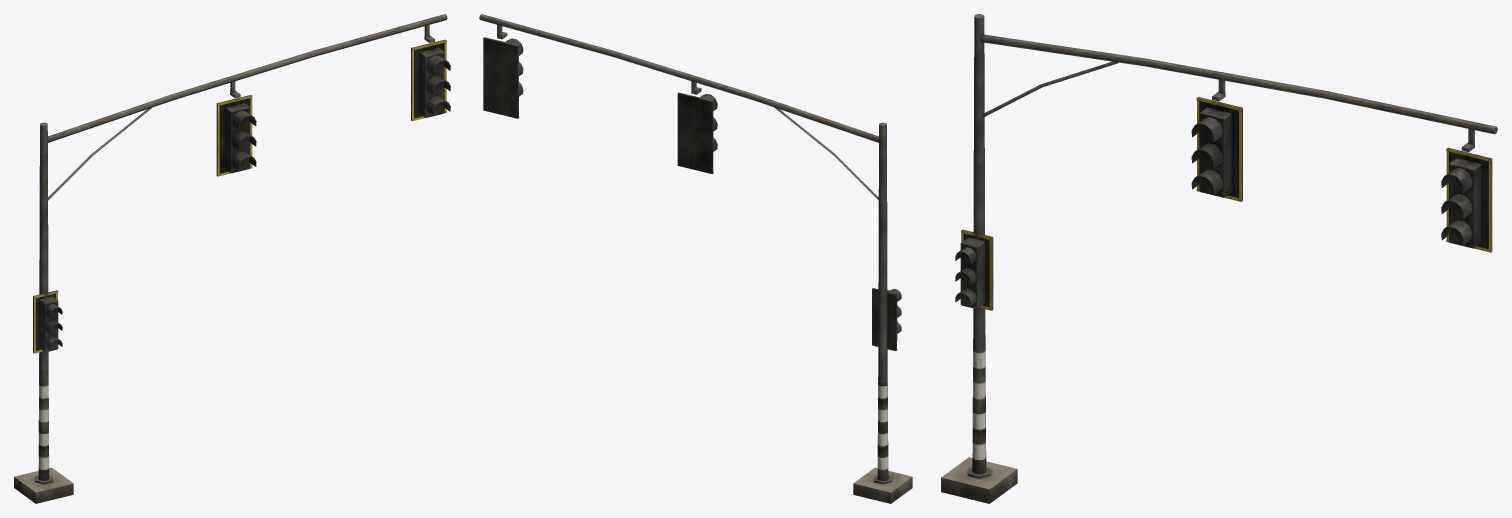
The model's file is traffic_mast.glb.
3 views of the same model, side by side, from view 1: azimuth 30°, elevation 25°; view 2: azimuth 150°, elevation 25°; view 3: azimuth 330°, elevation 25° (orthographic). The views are drawn at different scales.
Visible parts, largest first — view 1: body; view 2: body; view 3: body.
Part boxes in pixels (<box>): body: <box>14,14,450,503</box>; body: <box>479,14,912,503</box>; body: <box>941,14,1497,503</box>.
Bounding box in the file's own units: 7.8 × 6.7 × 0.83.
1 material, 1 textured.
